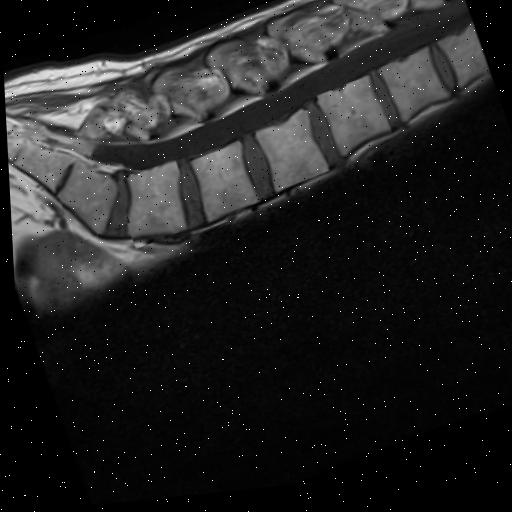L1: (379, 57, 447, 129)
L2: (314, 83, 388, 163)
L3: (253, 117, 326, 197)
L4: (188, 146, 254, 226)
L5: (122, 165, 181, 240)
S1: (53, 164, 113, 235)
